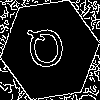Q: (25, 25, 68, 78)
